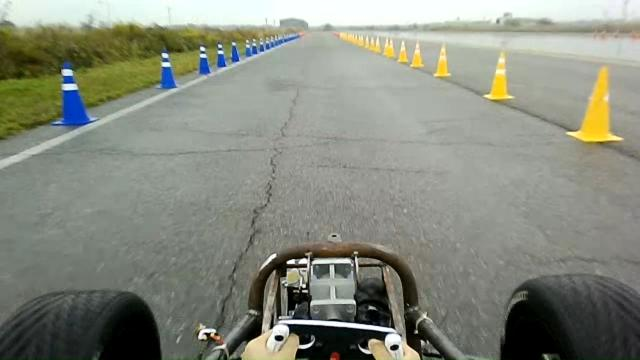blue cone: (51, 60, 98, 126), (156, 47, 178, 89), (198, 44, 211, 74), (216, 42, 227, 67), (230, 41, 240, 62)
yellow cone: (566, 65, 624, 143), (483, 51, 515, 101), (433, 43, 451, 77), (410, 41, 424, 68), (397, 39, 408, 63)
